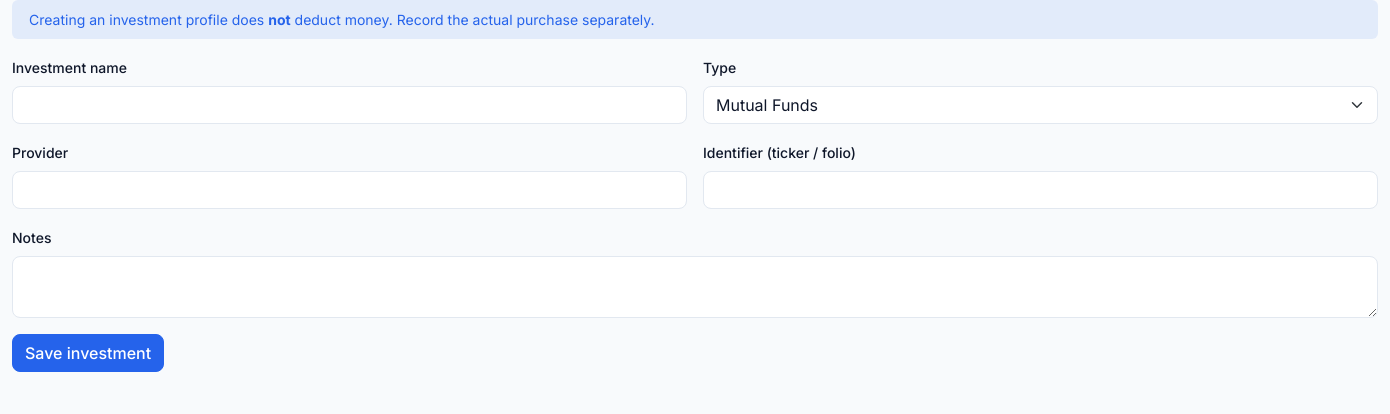
Test case: AddInvestmentForm › validates the required name
The width and height of the screenshot is (1390, 414).
What coordinates should you click on to do the following:
click the button "Save investment"
I would click on:
 (88, 353)
Its box is top-left (12, 334), bottom-right (164, 372).
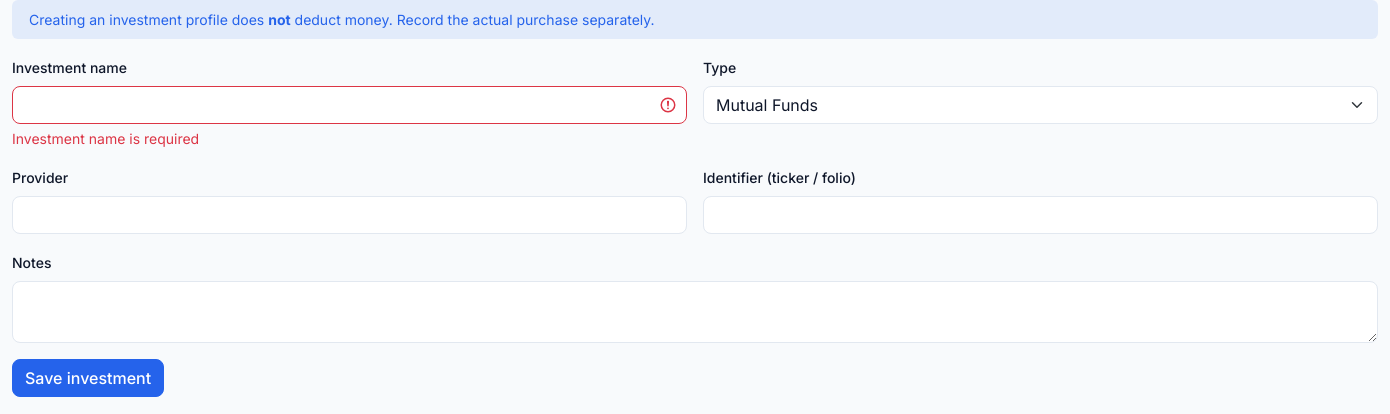
expect the text "Investment name is required" is shown: met, box top-left (12, 130), bottom-right (199, 147)
